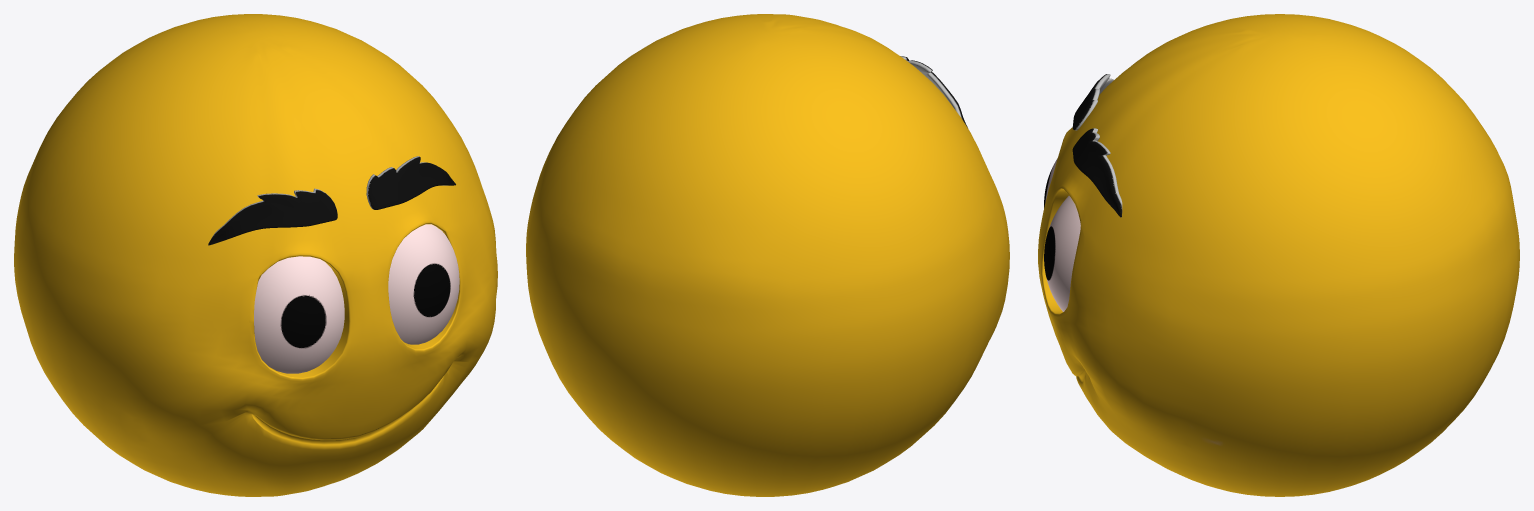
The model's file is smile_000009.obj.
3 renders of one model, left to right at view 1: azimuth 30°, elevation 25°; view 2: azimuth 150°, elevation 25°; view 3: azimuth 270°, elevation 25°, orthographic.
Visible parts, largest first — view 1: Smile_Base1:polySurface1_Untitled; view 2: Smile_Base1:polySurface1_Untitled; view 3: Smile_Base1:polySurface1_Untitled.
Boxes of the visible parts, left/top/right/bottom form: Smile_Base1:polySurface1_Untitled: left=14, top=14, right=497, bottom=496; Smile_Base1:polySurface1_Untitled: left=526, top=14, right=1009, bottom=496; Smile_Base1:polySurface1_Untitled: left=1038, top=14, right=1519, bottom=496.
Size of the model in its own units: 0.0425 by 0.0431 by 0.0428.
1 material, 1 textured.
